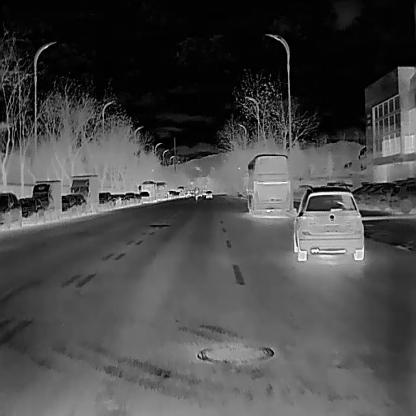bus: (245, 153, 291, 215), (140, 179, 158, 203), (156, 180, 166, 200), (176, 185, 185, 197)
car: (292, 185, 364, 261), (377, 179, 410, 210), (362, 180, 396, 209), (388, 178, 415, 214), (355, 182, 389, 209), (0, 191, 21, 231), (18, 196, 44, 224), (61, 193, 86, 216), (97, 190, 112, 212), (110, 193, 123, 208), (124, 192, 136, 206), (138, 191, 149, 202), (133, 192, 141, 204), (205, 188, 212, 198)
truck: (31, 178, 61, 218), (70, 173, 98, 214)
